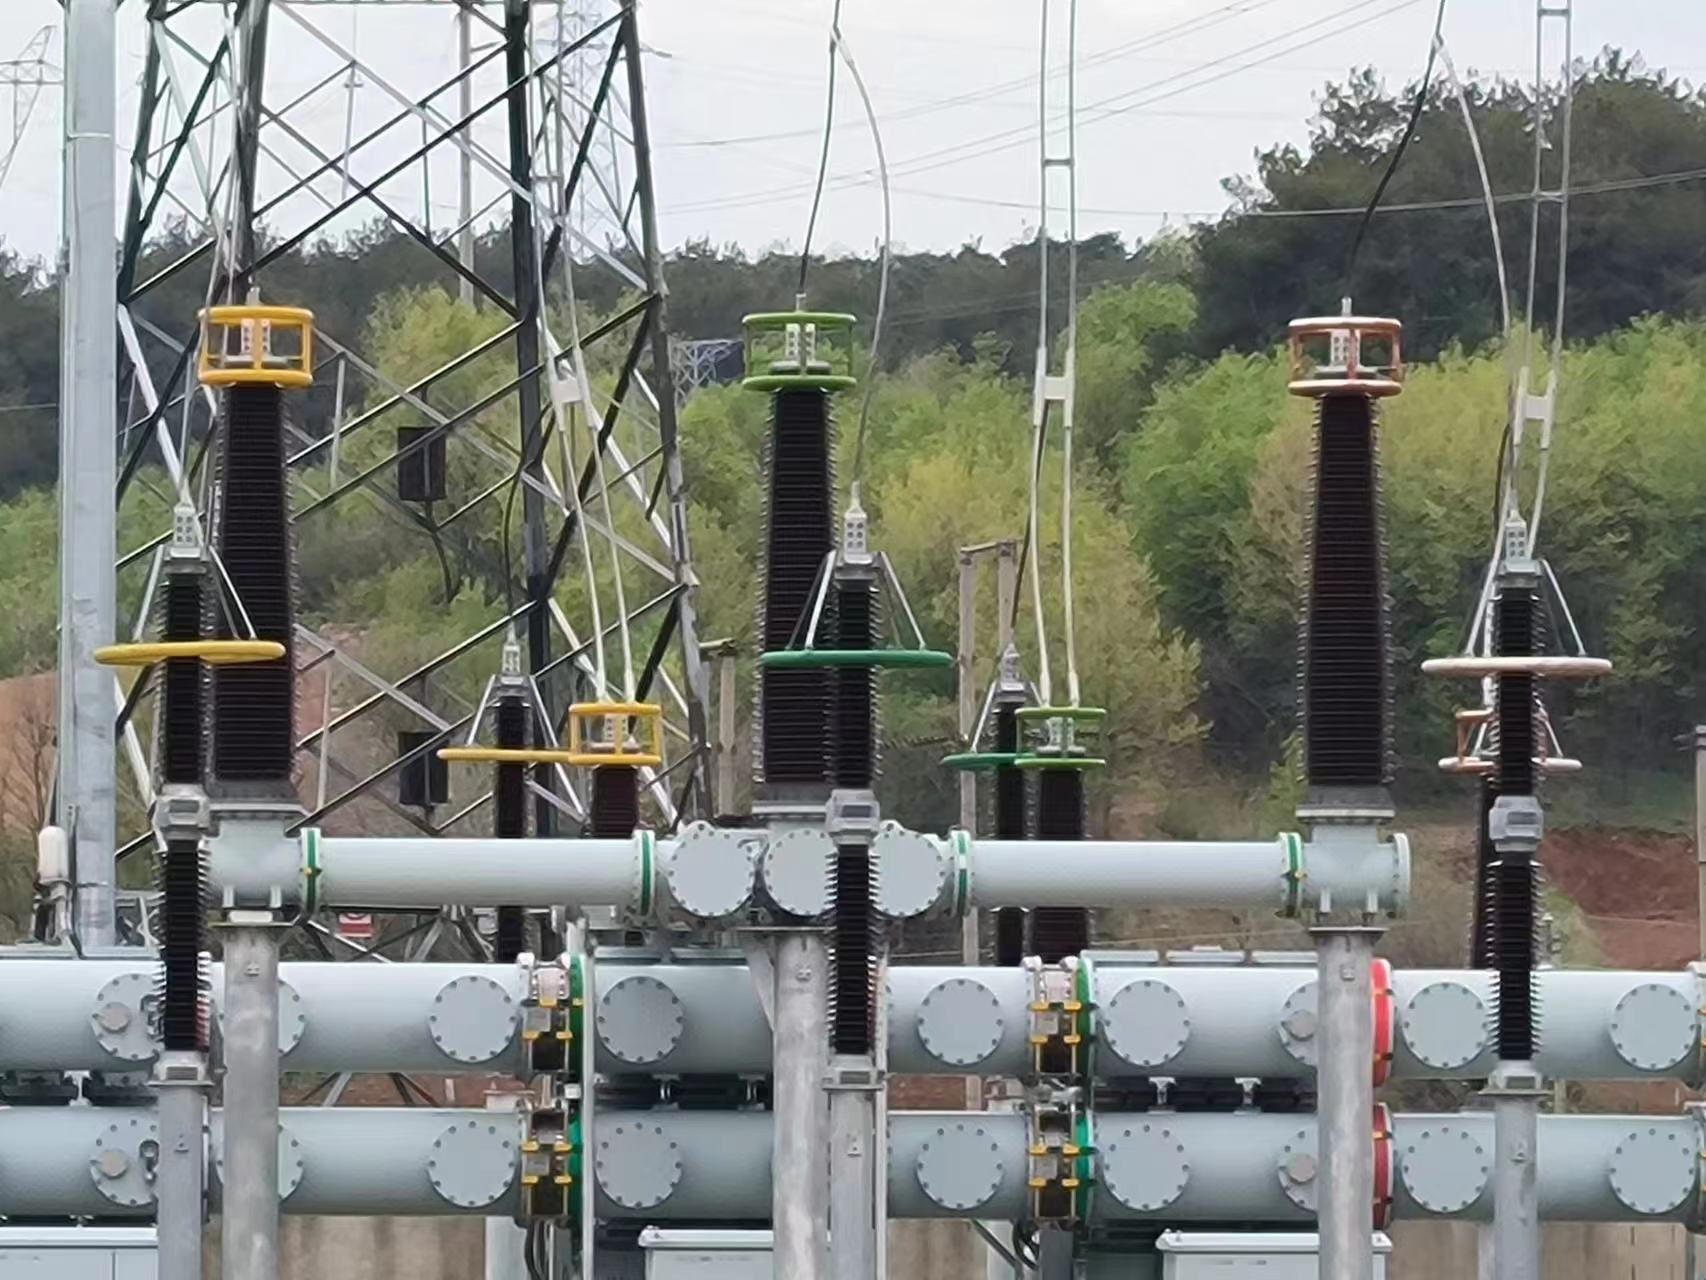Arrester: (1421, 527, 1627, 1081), (87, 510, 285, 1080), (761, 502, 949, 1073)
Voltage transformer: (1283, 301, 1408, 805), (196, 294, 316, 783), (735, 303, 855, 791)
